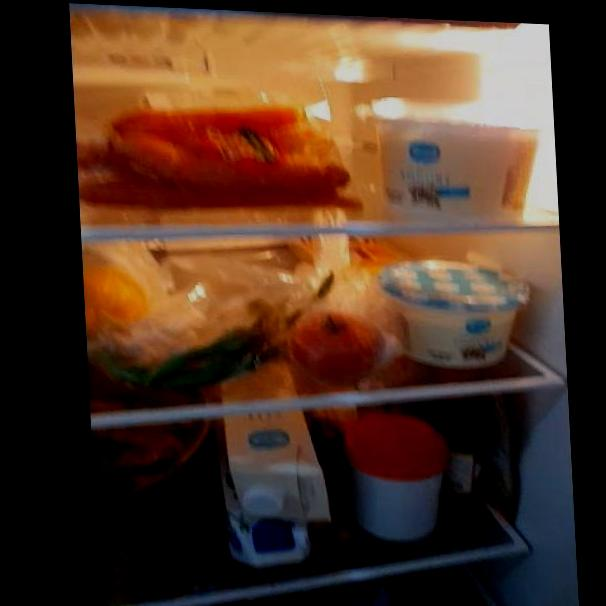carrot: (76, 96, 350, 209)
green chilies: (98, 319, 287, 391)
lemon: (84, 265, 157, 338)
milk: (218, 422, 337, 561)
sauce: (437, 402, 496, 496)
tomato: (295, 313, 388, 373)
yoghurt: (373, 115, 534, 228), (380, 258, 527, 371)
